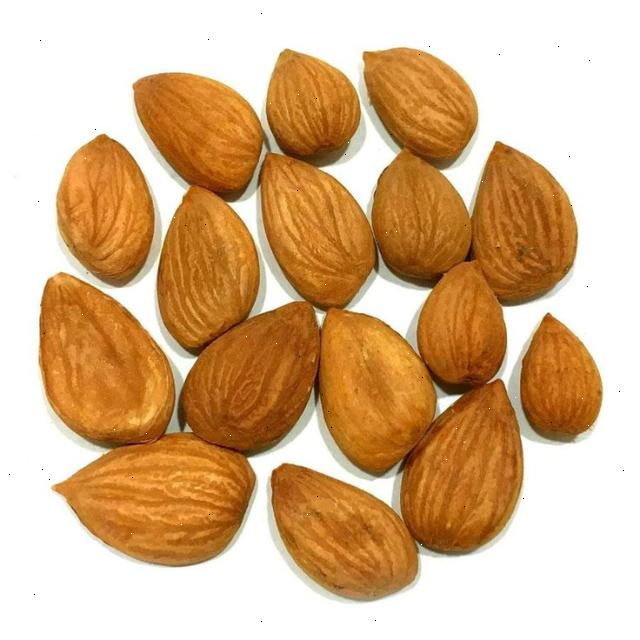kayisicekirdegi: (52, 432, 258, 569), (37, 272, 178, 451), (398, 378, 525, 557), (269, 465, 420, 604), (183, 304, 322, 447), (317, 312, 436, 469), (155, 187, 262, 356), (263, 155, 377, 310), (132, 72, 263, 204), (472, 142, 579, 302), (55, 136, 157, 286), (363, 47, 479, 170), (372, 152, 472, 287), (417, 263, 508, 394), (265, 50, 361, 167), (520, 315, 604, 445)
